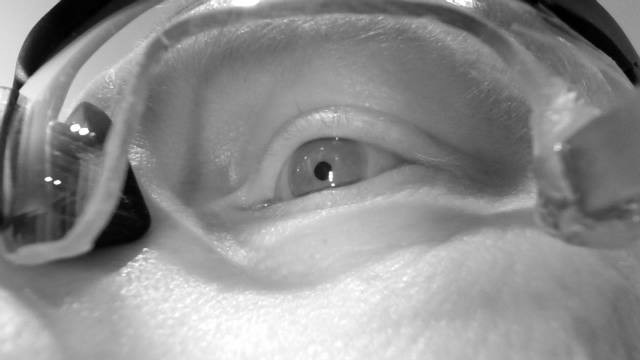pupil: (313, 160, 333, 182)
